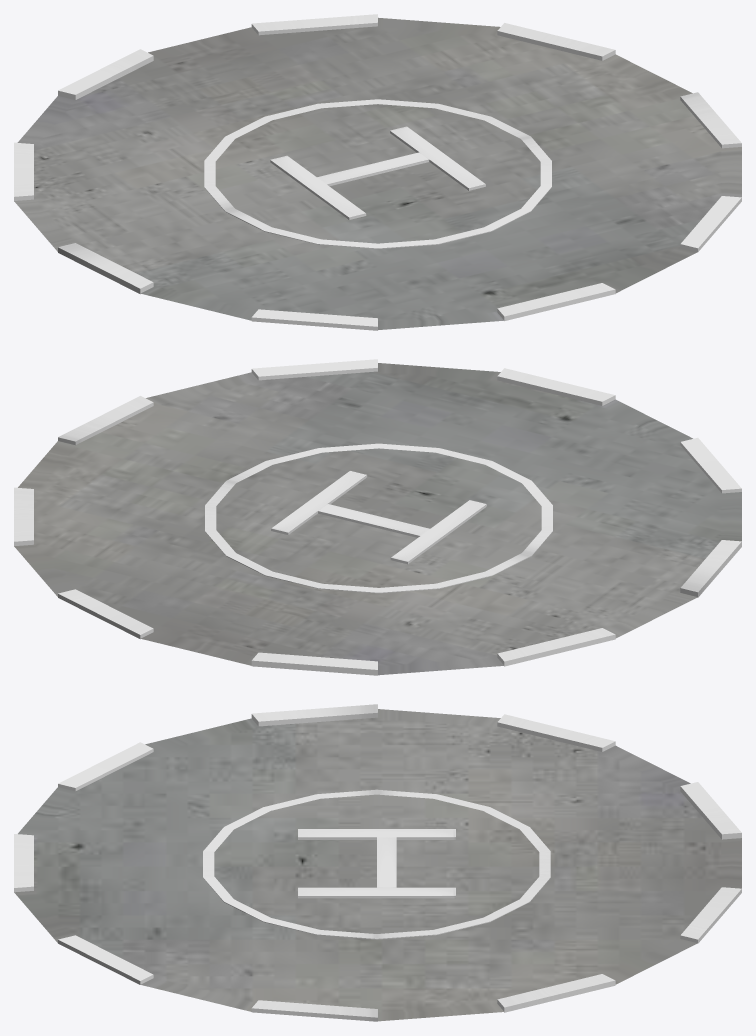
File: Helicopter pad(04-14).FBX
The picture shows the model from 3 angles, top to bottom: view 1: azimuth 30°, elevation 25°; view 2: azimuth 150°, elevation 25°; view 3: azimuth 270°, elevation 25°; orthographic projection.
Parts seen in each view (by area): view 1: Cylinder001, Object001, Cylinder002, Box003; view 2: Cylinder001, Object001, Cylinder002, Box003; view 3: Cylinder001, Object001, Cylinder002, Box003.
Part boxes in pixels (box(x1,y1,x2,y2)): Cylinder001: box(14, 17, 741, 329); Object001: box(14, 14, 741, 330); Cylinder002: box(204, 99, 551, 248); Box003: box(270, 126, 485, 219); Cylinder001: box(14, 363, 741, 675); Object001: box(14, 359, 741, 675); Cylinder002: box(205, 443, 552, 593); Box003: box(271, 471, 486, 564); Cylinder001: box(14, 709, 741, 1021); Object001: box(14, 704, 741, 1021); Cylinder002: box(203, 789, 550, 939); Box003: box(298, 829, 455, 898).
Bounding box in the file's own units: 374 × 21.55 × 369.
